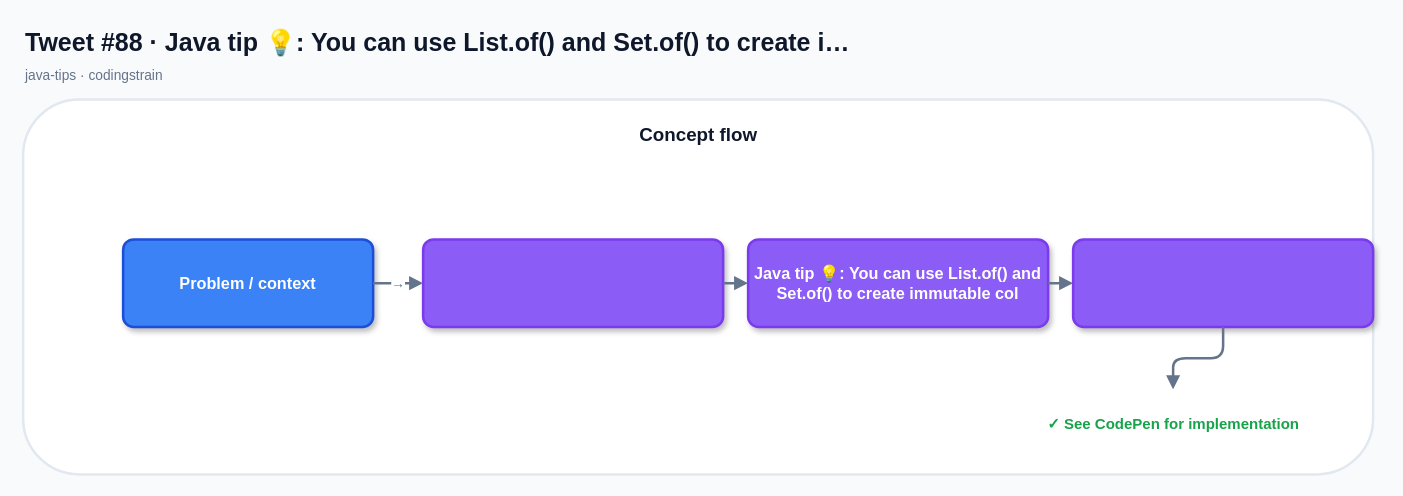
Some shapes in this 1403 by 496 pixel diagram are drawn without their labels. The shapes that lost their labels are listed below. From the top down, each one's centre as x and y in pixels, then its label:
(573,284): 💡 Java tip 💡: You can use List.of() and Set.of() to create immutable c
(1223,284): These are a quick ways to create unmodifiable lists and sets without u
